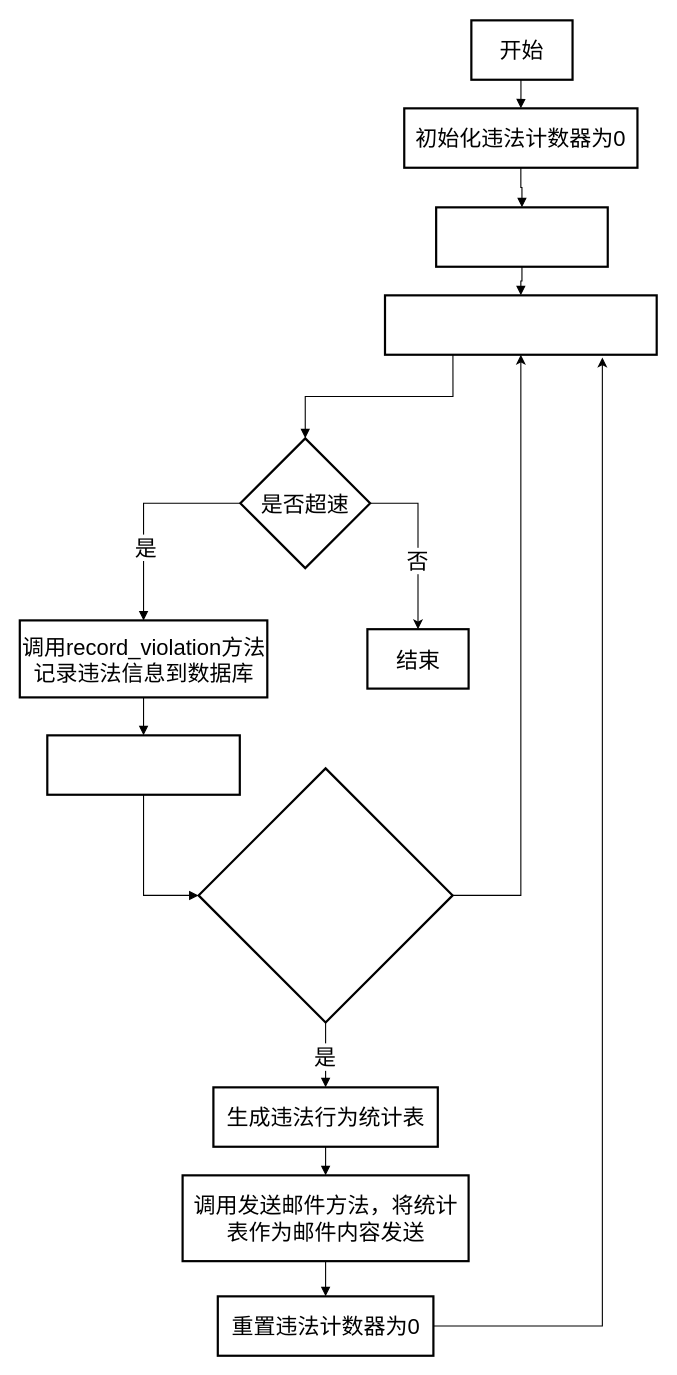
This 677x1375 diagram has some shape labels left out. The centre of each missing label's shape, as x and y in pixels:
"设置违法阈值" goes at pixel 521 236.
"调用calculate_speeds方法" goes at pixel 520 324.
"违法计数器 += 1" goes at pixel 143 764.
"违法计数器是否 大于等于阈值" goes at pixel 325 895.
